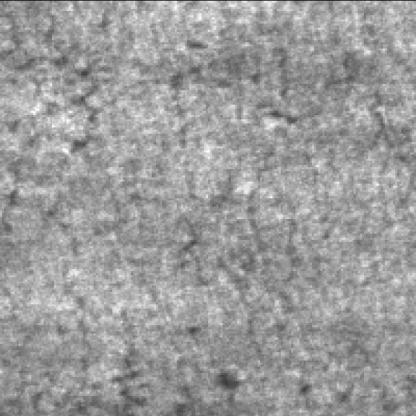crazing: (165, 35, 298, 328), (0, 0, 92, 243)
